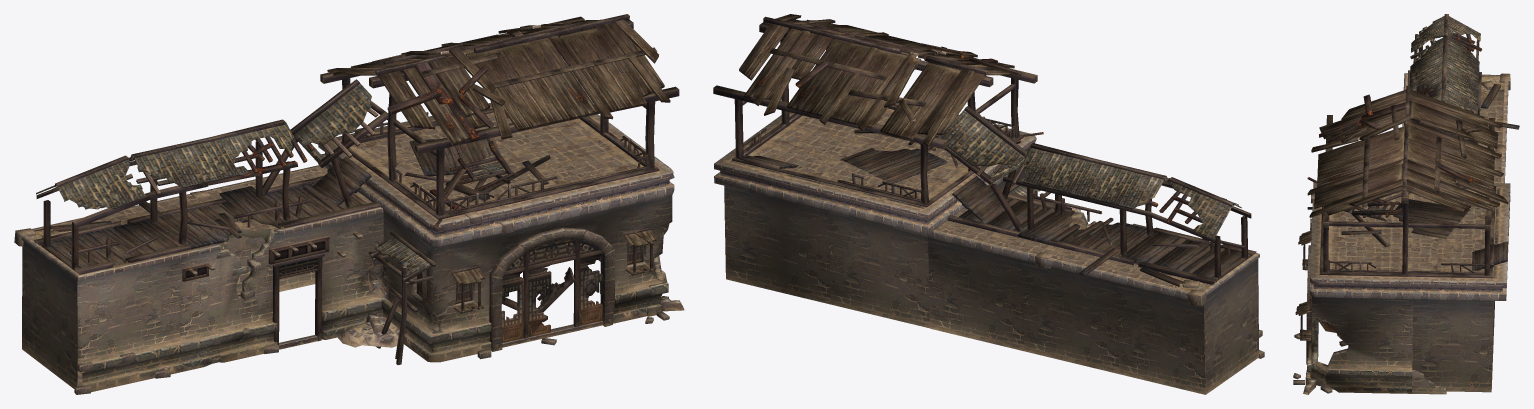
The model's file is FeiXuAll_7.FBX.
3 renders of one model, left to right at view 1: azimuth 30°, elevation 25°; view 2: azimuth 150°, elevation 25°; view 3: azimuth 270°, elevation 25°, orthographic. The views are drawn at different scales.
Parts seen in each view (by area): view 1: Wood, Main; view 2: Main, Wood; view 3: Wood, Main.
Part boxes in pixels (box(x1,y1,x2,y2)): Wood: box(33, 14, 684, 364); Main: box(14, 103, 674, 394); Main: box(714, 102, 1264, 394); Wood: box(713, 14, 1256, 286); Wood: box(1295, 14, 1519, 394); Main: box(1293, 73, 1510, 394).
Size of the model in its own units: 1653 by 726 by 701.
